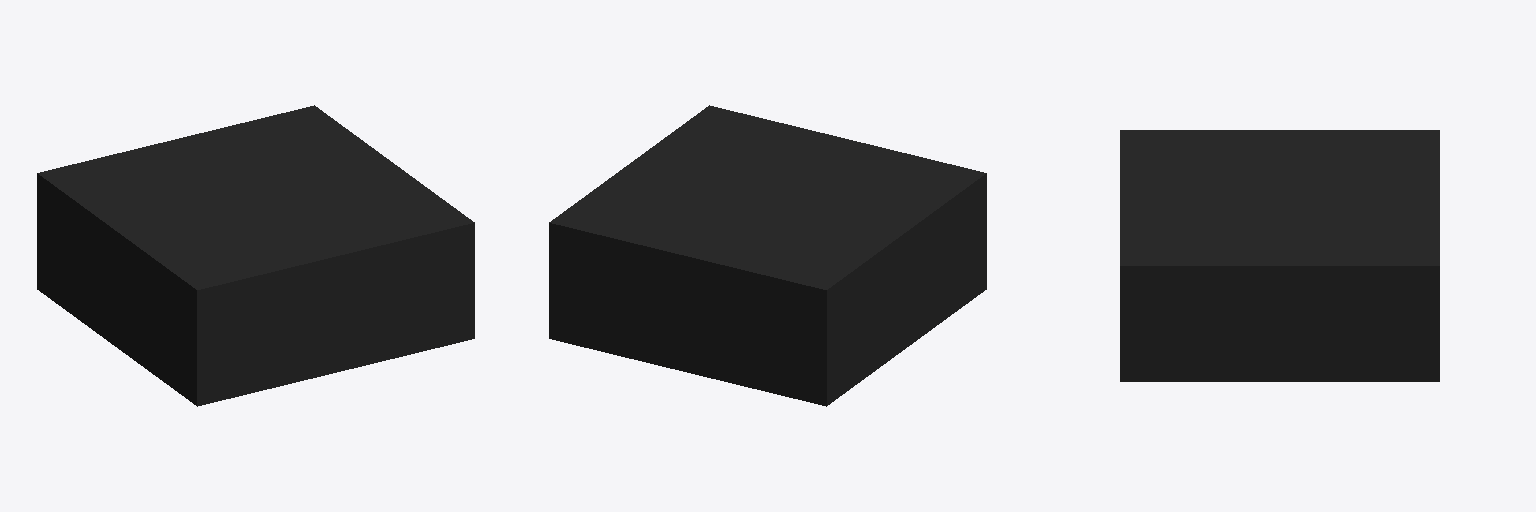
The model's file is new_room.obj.
3 renders of one model, left to right at view 1: azimuth 30°, elevation 25°; view 2: azimuth 150°, elevation 25°; view 3: azimuth 270°, elevation 25°, orthographic.
Visible parts, largest first — view 1: roof, -y_ext_wall, -x_ext_wall; view 2: roof, +y_ext_wall, -x_ext_wall; view 3: roof, +x_ext_wall.
Boxes of the visible parts, <box> form: roof: <box>38,105,474,289</box>; -y_ext_wall: <box>197,223,474,406</box>; -x_ext_wall: <box>37,173,196,405</box>; roof: <box>549,105,985,289</box>; +y_ext_wall: <box>549,223,826,406</box>; -x_ext_wall: <box>827,173,986,405</box>; roof: <box>1120,130,1439,265</box>; +x_ext_wall: <box>1120,266,1439,381</box>.
Size of the model in its own units: 10 by 4 by 10.